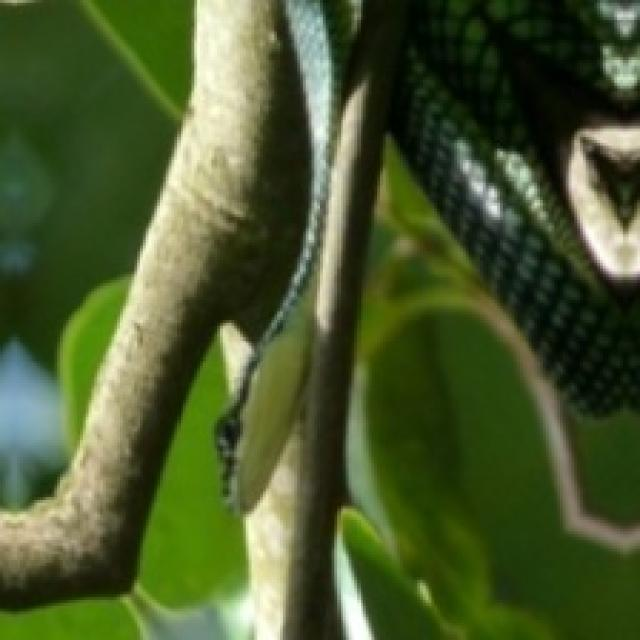paradise tree snake: (391, 0, 640, 412), (215, 0, 358, 512)
